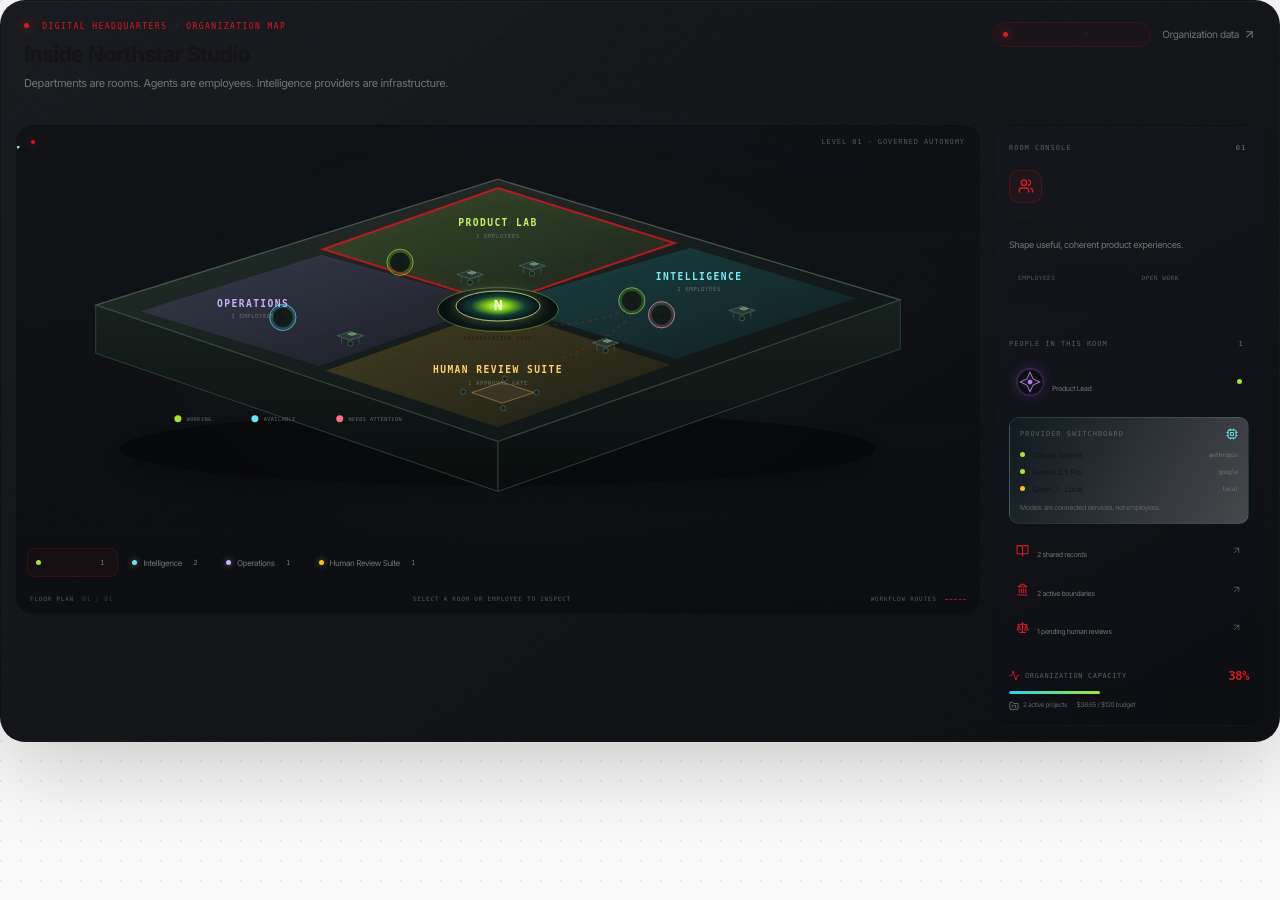
Test: OrganizationOffice › lets the operator inspect a room and an employee without changing organization data
Click the button with aria-label "Select Intelligence" at (168, 562), box [123,548,212,577]
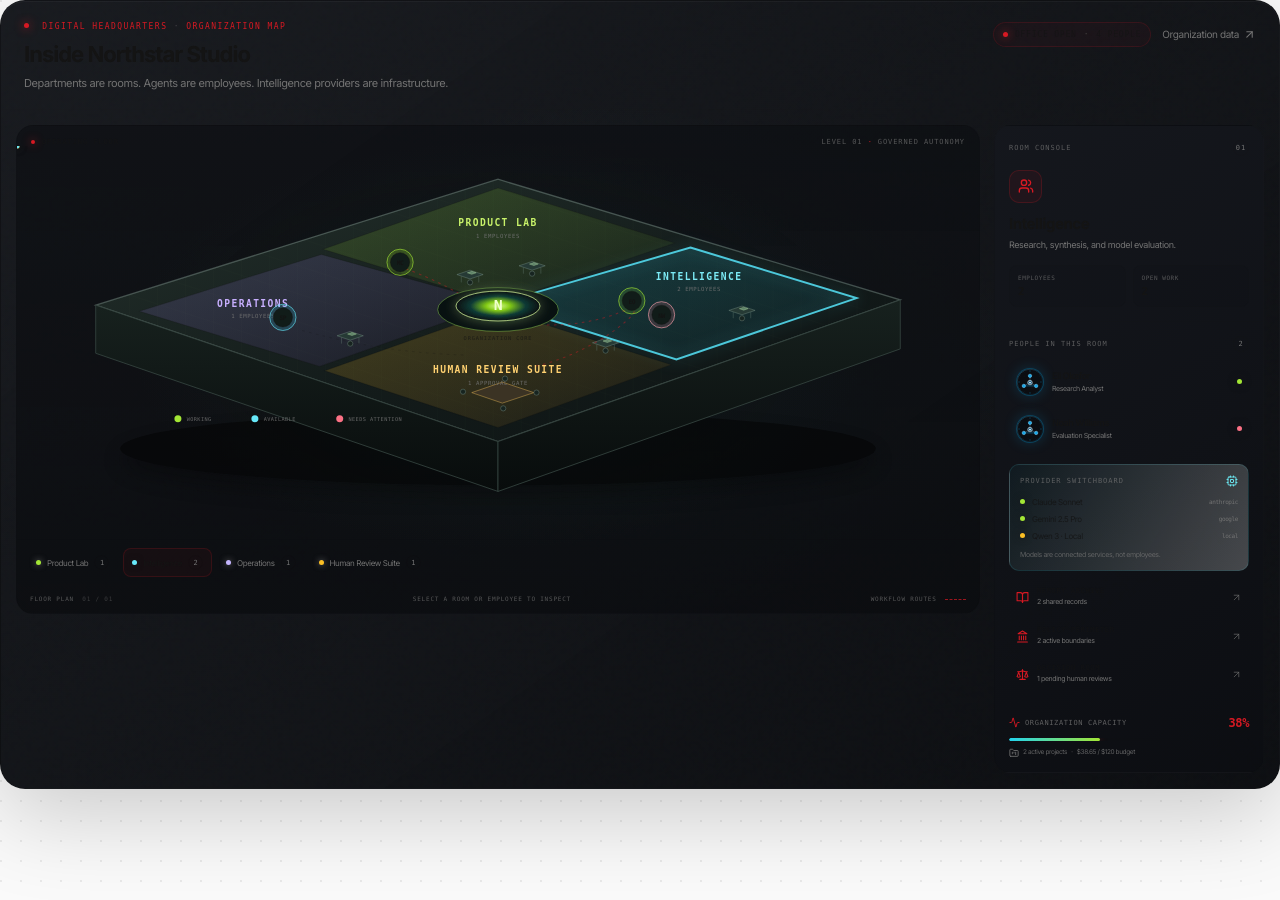
Expected: the text "PEOPLE IN THIS ROOM" is shown, [1009,340,1108,348]
Click the button with aria-label "Inspect Noah Williams" at (1129, 429), box [1009,408,1249,450]
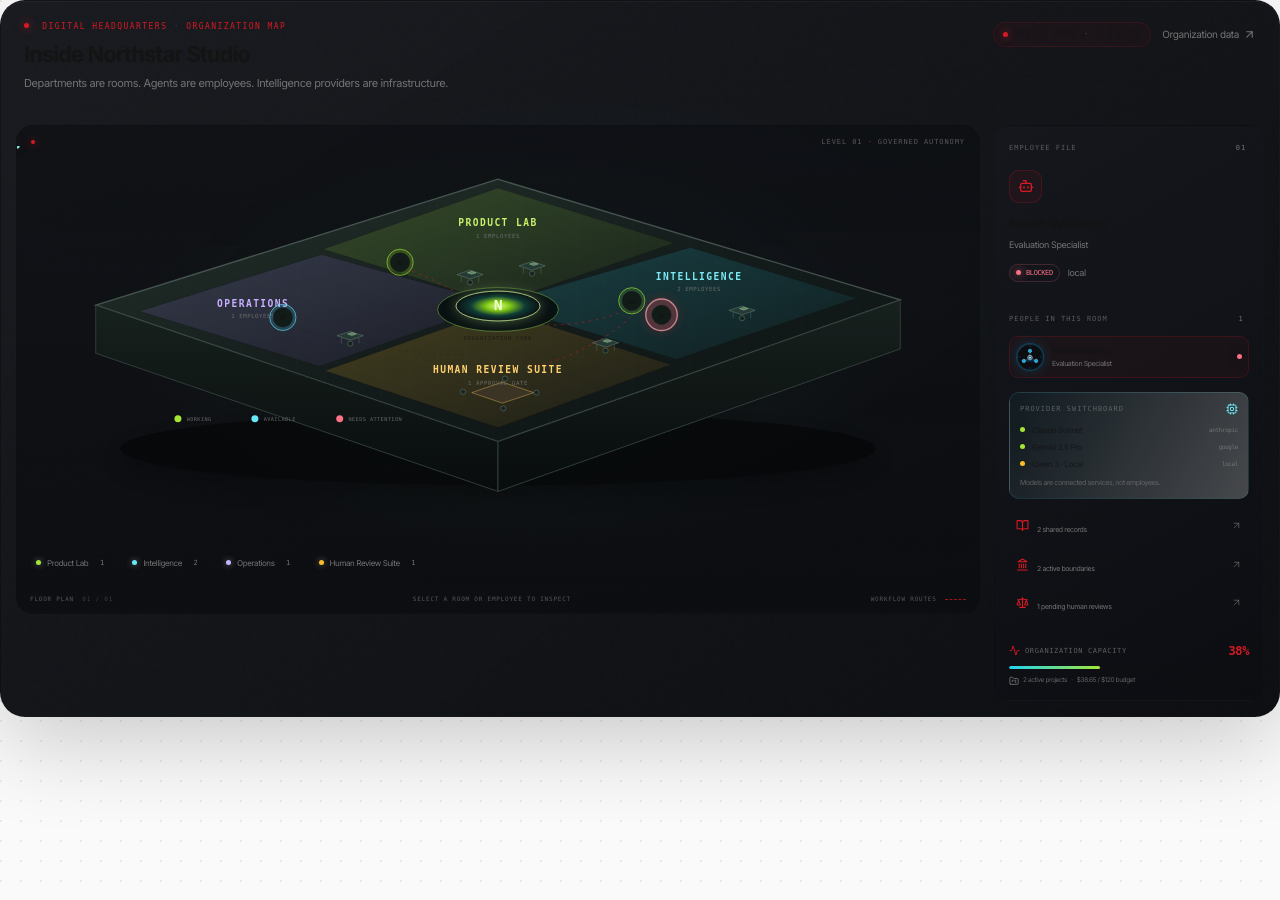
Now the text "EMPLOYEE FILE" is shown, box [1009,144,1076,152]
Now the text "local" is shown 2 times, box [1068,266,1086,280]; [1222,460,1238,467]
Now the element showing "BLOCKED" is shown, box [1009,264,1060,282]
